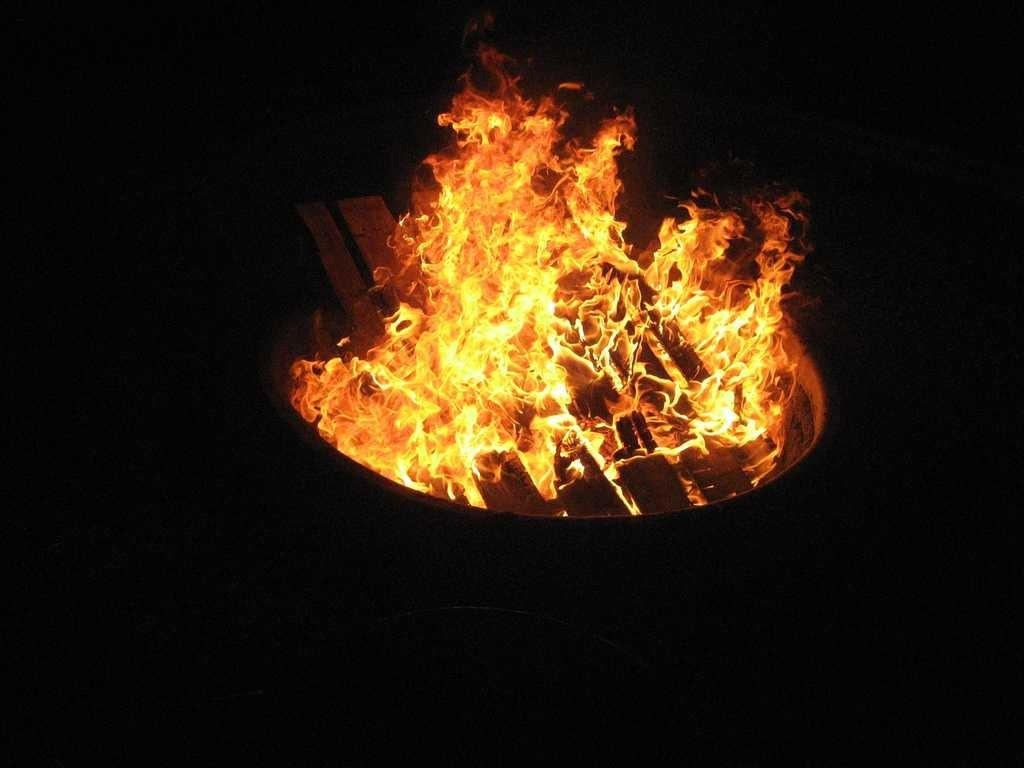fire: (450, 114, 562, 460), (582, 248, 758, 432), (336, 354, 446, 470)
